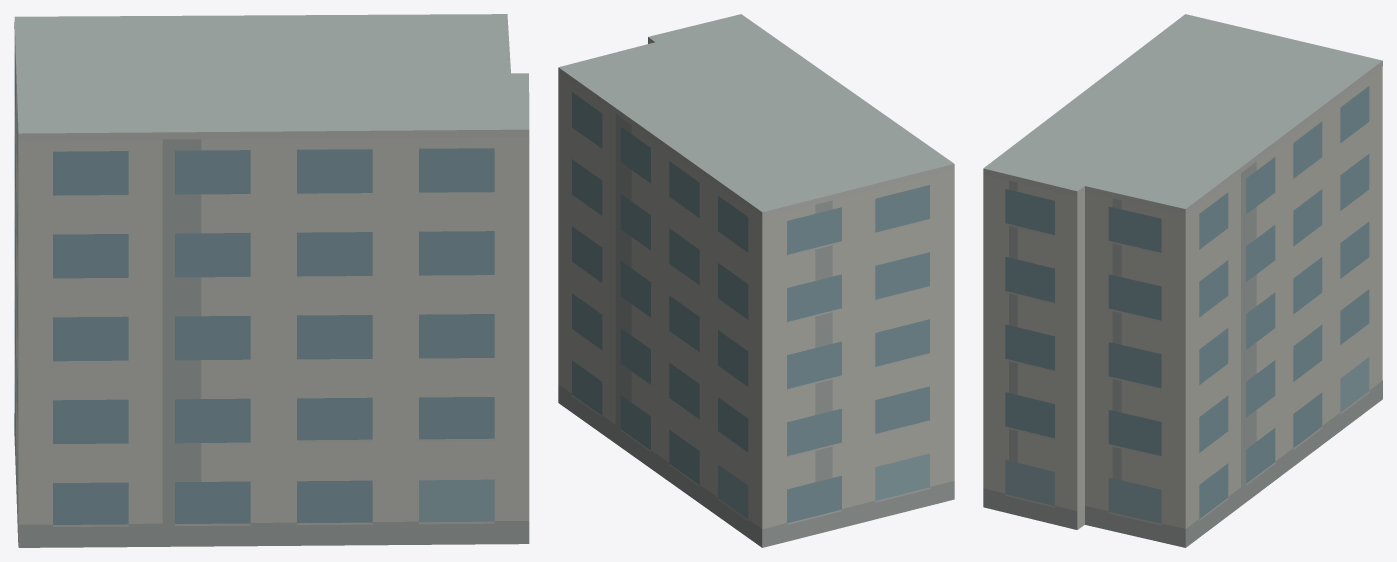
The model's file is survey-upis-32948481.glb.
3 views of the same model, side by side, from view 1: azimuth 30°, elevation 25°; view 2: azimuth 150°, elevation 25°; view 3: azimuth 270°, elevation 25° (orthographic). The views are drawn at different scales.
Visible parts, largest first — view 1: survey-upis-32948481.tmp; view 2: survey-upis-32948481.tmp; view 3: survey-upis-32948481.tmp.
Boxes of the visible parts, left/top/right/bottom form: survey-upis-32948481.tmp: left=14, top=14, right=529, bottom=547; survey-upis-32948481.tmp: left=558, top=14, right=954, bottom=547; survey-upis-32948481.tmp: left=983, top=14, right=1382, bottom=547.
Size of the model in its own units: 17.55 by 14.2 by 15.19.
